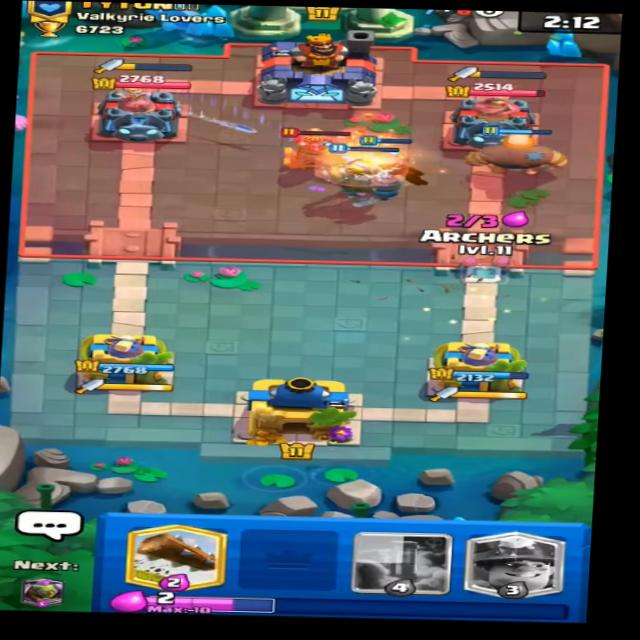tesla: (272, 124, 358, 174)
